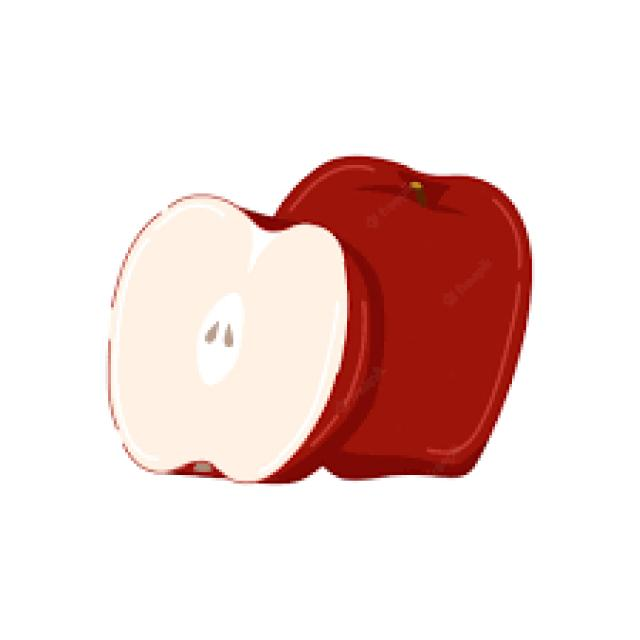Apple: (103, 190, 374, 484), (306, 156, 531, 477)
